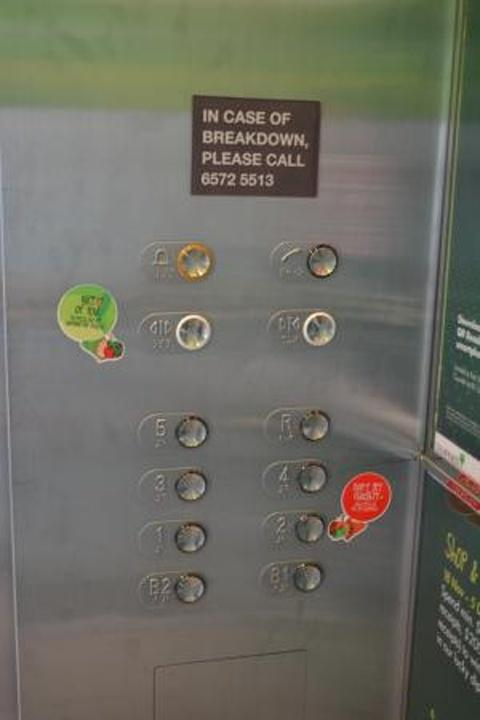1: (134, 516, 213, 560)
2: (256, 509, 331, 549)
3: (135, 460, 213, 507)
4: (257, 456, 331, 504)
5: (139, 403, 213, 451)
B1: (256, 558, 328, 600)
B2: (125, 565, 208, 612)
alarm: (134, 236, 214, 286)
call: (266, 238, 345, 295)
close: (264, 301, 339, 356)
open: (133, 303, 219, 361)
unknown: (256, 401, 332, 447)
